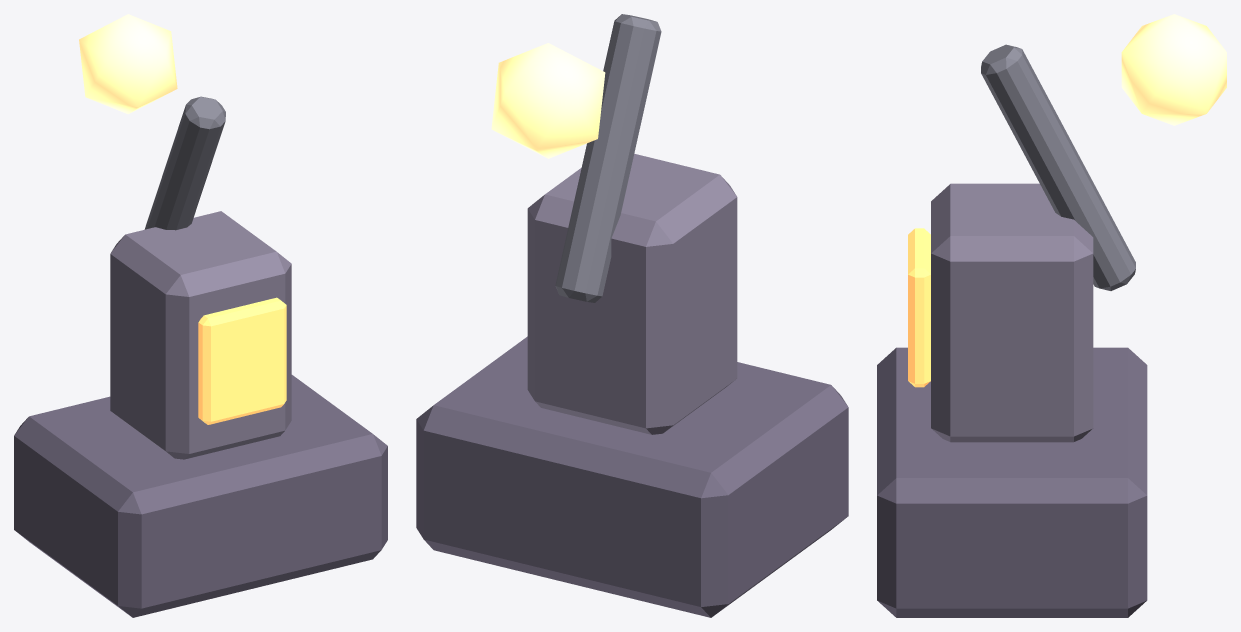
The model's file is ember_magma_lever.glb.
3 renders of one model, left to right at view 1: azimuth 30°, elevation 25°; view 2: azimuth 150°, elevation 25°; view 3: azimuth 270°, elevation 25°, orthographic. The views are drawn at different scales.
Visible parts, largest first — view 1: ember_magma_lever_Body, ember_magma_lever_Handle.001, ember_magma_lever_Window.001; view 2: ember_magma_lever_Body, ember_magma_lever_Handle.001; view 3: ember_magma_lever_Body, ember_magma_lever_Handle.001, ember_magma_lever_Window.001.
Boxes of the visible parts, left/top/right/bottom form: ember_magma_lever_Body: left=14, top=211, right=387, bottom=617; ember_magma_lever_Handle.001: left=79, top=14, right=225, bottom=230; ember_magma_lever_Window.001: left=198, top=297, right=286, bottom=424; ember_magma_lever_Body: left=416, top=153, right=848, bottom=617; ember_magma_lever_Handle.001: left=491, top=14, right=661, bottom=302; ember_magma_lever_Body: left=877, top=183, right=1147, bottom=617; ember_magma_lever_Handle.001: left=981, top=14, right=1226, bottom=290; ember_magma_lever_Window.001: left=908, top=228, right=930, bottom=387.
Size of the model in its own units: 0.9 by 1.54 by 0.9061.
